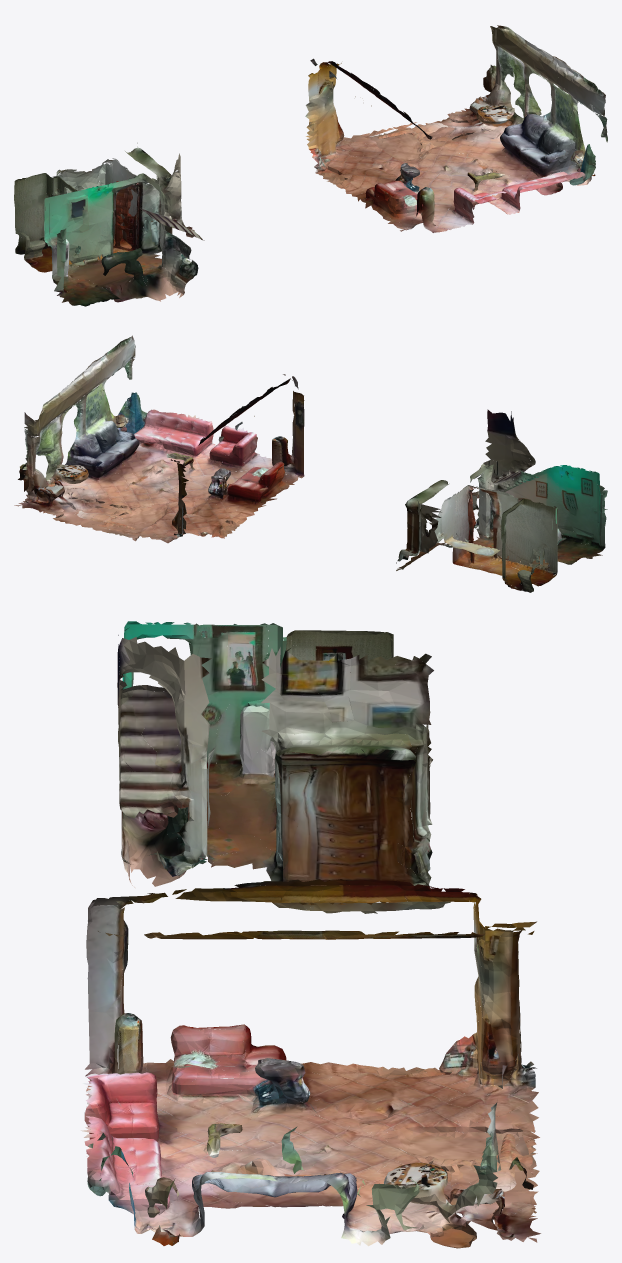
Rendered from esc_baja_muros_01.glb.
3 views of the same model, one above another, from view 1: azimuth 30°, elevation 25°; view 2: azimuth 150°, elevation 25°; view 3: azimuth 270°, elevation 25° (orthographic). The views are drawn at different scales.
Visible parts, largest first — view 1: muros_Planta_principal_1_GLTF_11, muros_Planta_principal_1_GLTF_15, muros_Planta_principal_1_GLTF_14, muros_Planta_principal_1_GLTF_9, muros_Planta_principal_1_GLTF_4, muros_Planta_principal_1_GLTF_13, muros_Planta_principal_1_GLTF_10, muros_Planta_principal_1_GLTF_2, muros_Planta_principal_1_GLTF, muros_Planta_principal_1_GLTF_5, muros_Planta_principal_1_GLTF_3, muros_Planta_principal_1_GLTF_1 (+3 smaller); view 2: muros_Planta_principal_1_GLTF_11, muros_Planta_principal_1_GLTF_2, muros_Planta_principal_1_GLTF_9, muros_Planta_principal_1_GLTF_14, muros_Planta_principal_1_GLTF_10, muros_Planta_principal_1_GLTF_4, muros_Planta_principal_1_GLTF_15, muros_Planta_principal_1_GLTF_5, muros_Planta_principal_1_GLTF_8, muros_Planta_principal_1_GLTF_12, muros_Planta_principal_1_GLTF_13, muros_Planta_principal_1_GLTF_1 (+4 smaller); view 3: muros_Planta_principal_1_GLTF_11, muros_Planta_principal_1_GLTF_14, muros_Planta_principal_1_GLTF_4, muros_Planta_principal_1_GLTF_15, muros_Planta_principal_1_GLTF_9, muros_Planta_principal_1_GLTF_8, muros_Planta_principal_1_GLTF_12, muros_Planta_principal_1_GLTF_3, muros_Planta_principal_1_GLTF_13, muros_Planta_principal_1_GLTF_10, muros_Planta_principal_1_GLTF, muros_Planta_principal_1_GLTF_2 (+4 smaller).
Boxes of the visible parts, left/top/right/bottom form: muros_Planta_principal_1_GLTF_11: left=44, top=25, right=607, bottom=292; muros_Planta_principal_1_GLTF_15: left=45, top=61, right=591, bottom=297; muros_Planta_principal_1_GLTF_14: left=24, top=66, right=588, bottom=302; muros_Planta_principal_1_GLTF_9: left=15, top=114, right=585, bottom=306; muros_Planta_principal_1_GLTF_4: left=54, top=72, right=605, bottom=297; muros_Planta_principal_1_GLTF_13: left=34, top=27, right=565, bottom=301; muros_Planta_principal_1_GLTF_10: left=57, top=114, right=492, bottom=265; muros_Planta_principal_1_GLTF_2: left=14, top=105, right=595, bottom=302; muros_Planta_principal_1_GLTF: left=24, top=61, right=583, bottom=260; muros_Planta_principal_1_GLTF_5: left=141, top=50, right=606, bottom=228; muros_Planta_principal_1_GLTF_3: left=14, top=85, right=607, bottom=280; muros_Planta_principal_1_GLTF_1: left=60, top=52, right=580, bottom=263; muros_Planta_principal_1_GLTF_11: left=31, top=349, right=580, bottom=570; muros_Planta_principal_1_GLTF_2: left=56, top=395, right=606, bottom=592; muros_Planta_principal_1_GLTF_9: left=75, top=409, right=605, bottom=591; muros_Planta_principal_1_GLTF_14: left=26, top=376, right=564, bottom=590; muros_Planta_principal_1_GLTF_10: left=95, top=465, right=544, bottom=573; muros_Planta_principal_1_GLTF_4: left=103, top=335, right=592, bottom=566; muros_Planta_principal_1_GLTF_15: left=23, top=374, right=549, bottom=568; muros_Planta_principal_1_GLTF_5: left=59, top=337, right=538, bottom=490; muros_Planta_principal_1_GLTF_8: left=18, top=431, right=534, bottom=580; muros_Planta_principal_1_GLTF_12: left=14, top=441, right=576, bottom=576; muros_Planta_principal_1_GLTF_13: left=24, top=412, right=557, bottom=579; muros_Planta_principal_1_GLTF_1: left=23, top=394, right=607, bottom=553; muros_Planta_principal_1_GLTF_11: left=85, top=625, right=539, bottom=1233; muros_Planta_principal_1_GLTF_14: left=86, top=635, right=539, bottom=1233; muros_Planta_principal_1_GLTF_4: left=83, top=807, right=521, bottom=1184; muros_Planta_principal_1_GLTF_15: left=85, top=656, right=527, bottom=1244; muros_Planta_principal_1_GLTF_9: left=81, top=772, right=416, bottom=1208; muros_Planta_principal_1_GLTF_8: left=119, top=637, right=533, bottom=1212; muros_Planta_principal_1_GLTF_12: left=156, top=704, right=540, bottom=1242; muros_Planta_principal_1_GLTF_3: left=84, top=635, right=522, bottom=1245; muros_Planta_principal_1_GLTF_13: left=134, top=752, right=538, bottom=1245; muros_Planta_principal_1_GLTF_10: left=215, top=769, right=532, bottom=1189; muros_Planta_principal_1_GLTF: left=130, top=623, right=510, bottom=1248; muros_Planta_principal_1_GLTF_2: left=101, top=627, right=461, bottom=1222.
Bounding box in the file's own units: 16.28 × 4.01 × 6.53.
16 materials, 16 textured.
